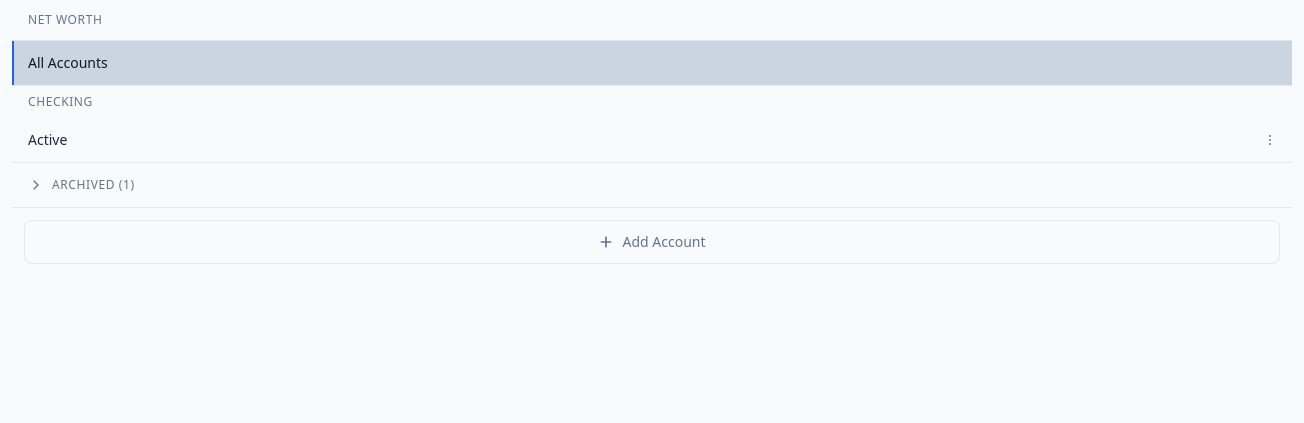
AccountSidebar › action menu › shows Unarchive for archived accounts
The width and height of the screenshot is (1304, 423).
Note: Expand archived group first
Click the button "Archived (1)": click(88, 184) [12,163,1292,207]
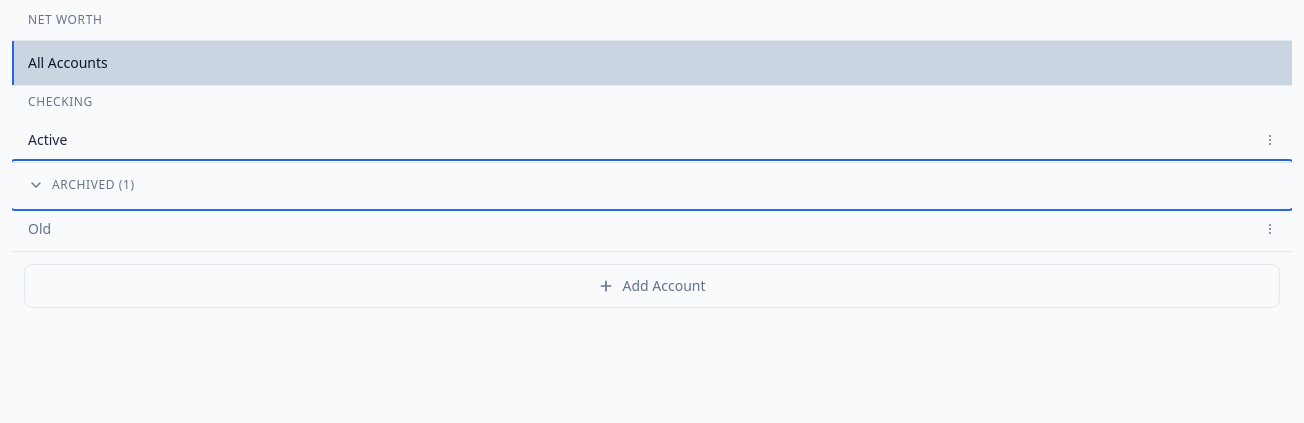
Click the button named "Actions for Old": click(1270, 229) [1248,207,1292,251]
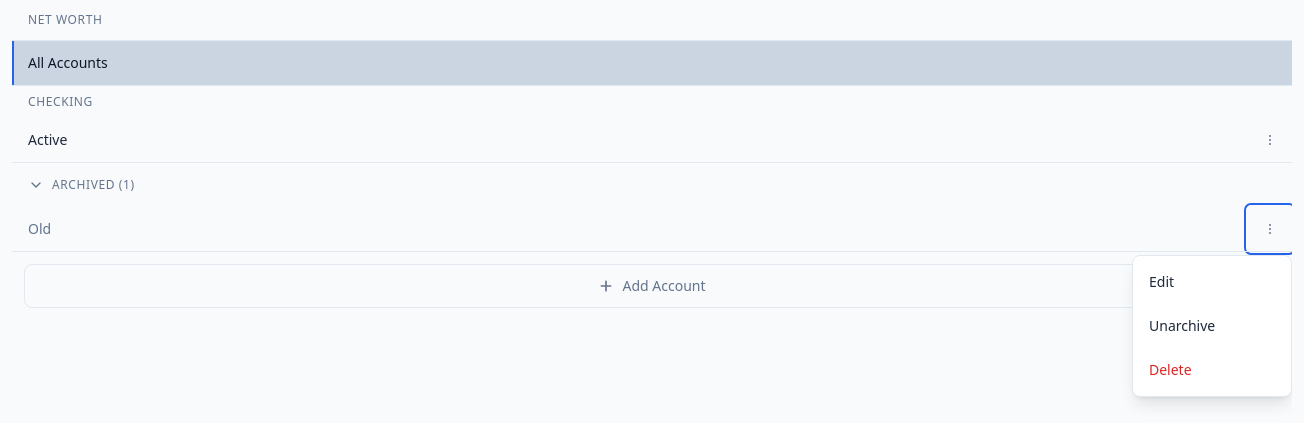
Expected: the button "Unarchive" is shown, [1133,304,1291,348]
